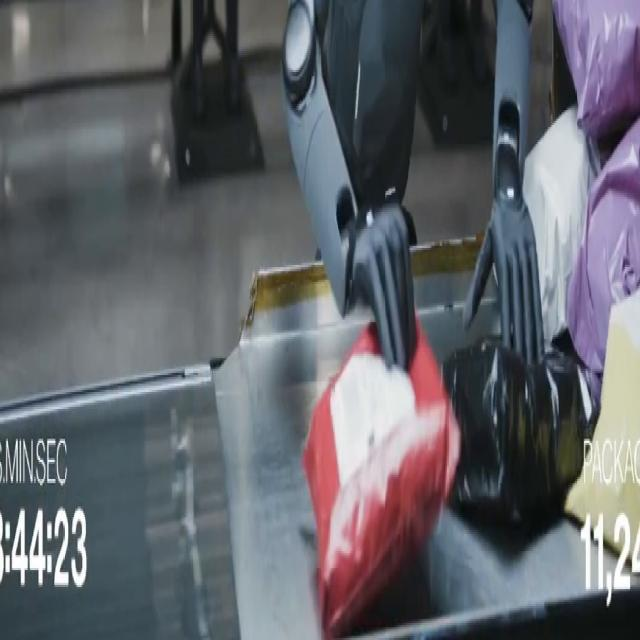package: (303, 323, 460, 637), (442, 340, 597, 521), (566, 293, 639, 572), (568, 119, 639, 377), (523, 109, 596, 345), (553, 0, 639, 137)
